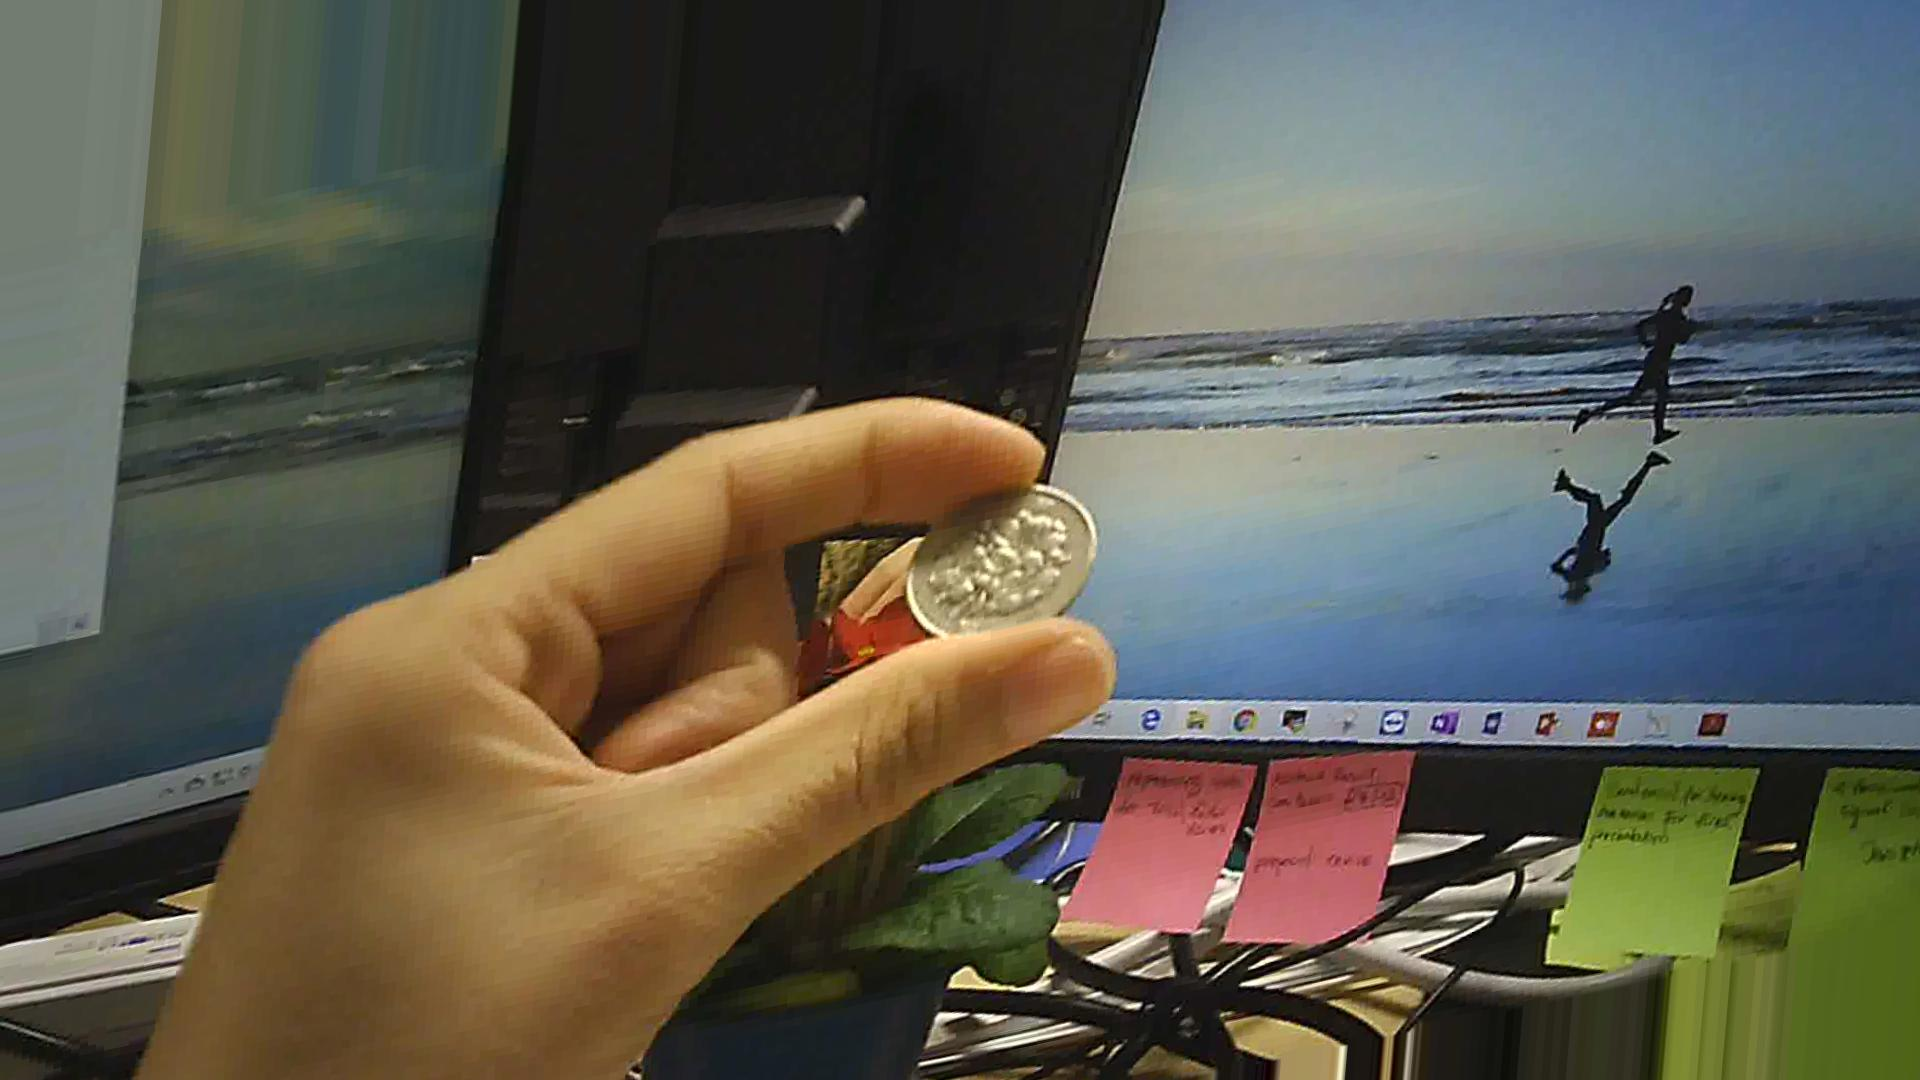100 Yen: (906, 465, 1104, 655)
